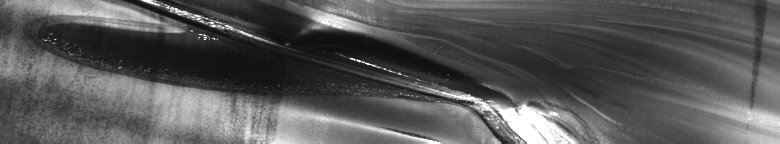ke: (42, 4, 621, 136)
